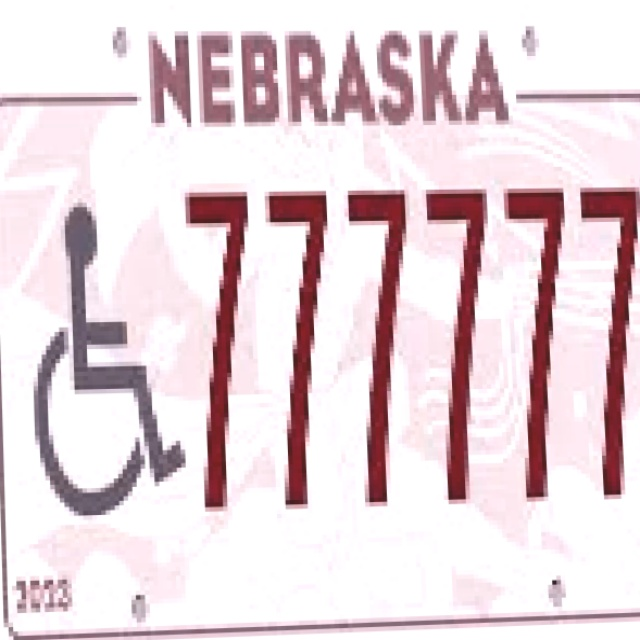ISA: (26, 199, 185, 524)
